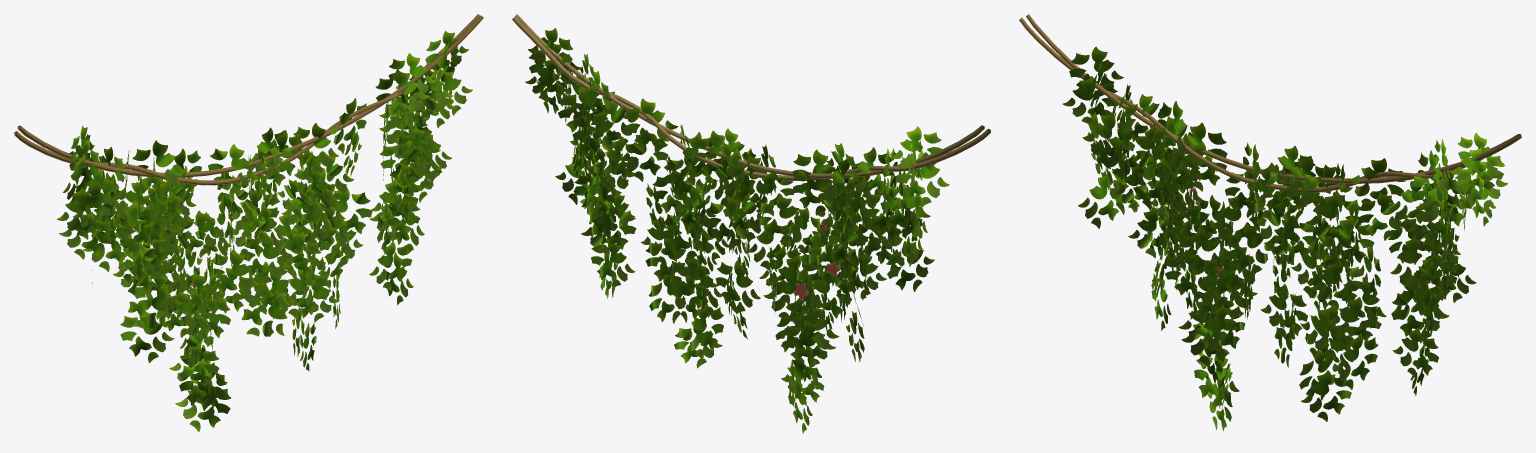
File: P_IvyCoastalVine08.obj
3 views of the same model, side by side, from view 1: azimuth 30°, elevation 25°; view 2: azimuth 150°, elevation 25°; view 3: azimuth 330°, elevation 25° (orthographic). The views are drawn at different scales.
Bounding box in the file's own units: 14.2 × 10.28 × 2.07.
